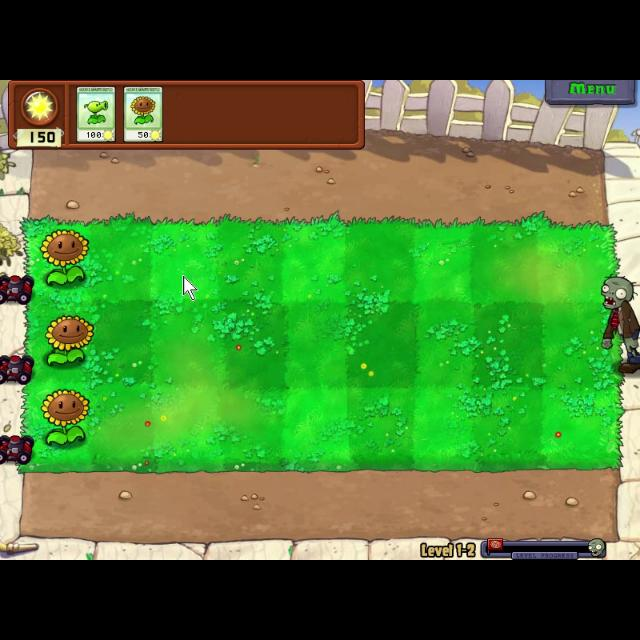Garden: (16, 214, 624, 476)
Menu Button: (542, 80, 636, 110)
Mower: (0, 349, 38, 389), (0, 271, 38, 307), (0, 428, 34, 466)
Peashooter: (75, 85, 117, 143)
Seed Panel: (6, 80, 368, 152)
Sunflower: (121, 84, 165, 144)
Sunflower Seed: (37, 224, 93, 294), (34, 388, 94, 448), (44, 312, 96, 370)
Zombie: (598, 273, 640, 377)
